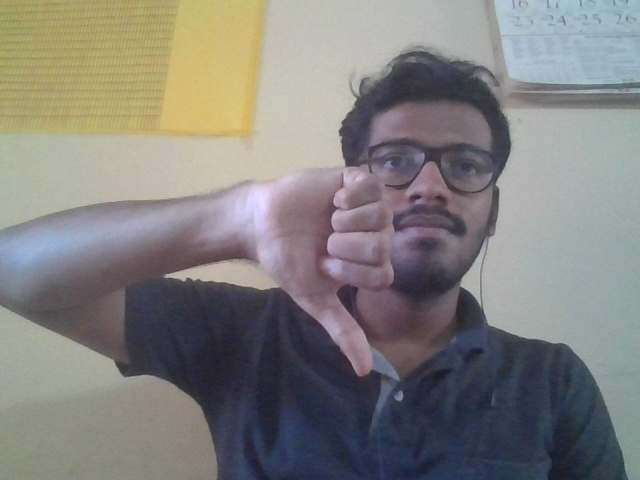ThumbsDown: (248, 164, 397, 377)
